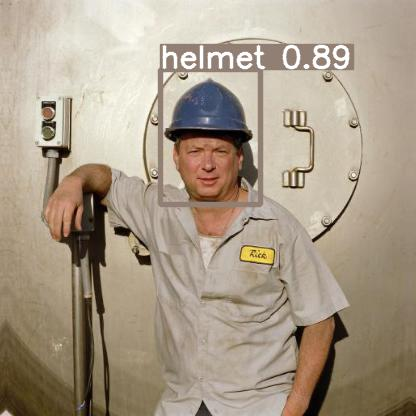helmet: (160, 69, 260, 204)
